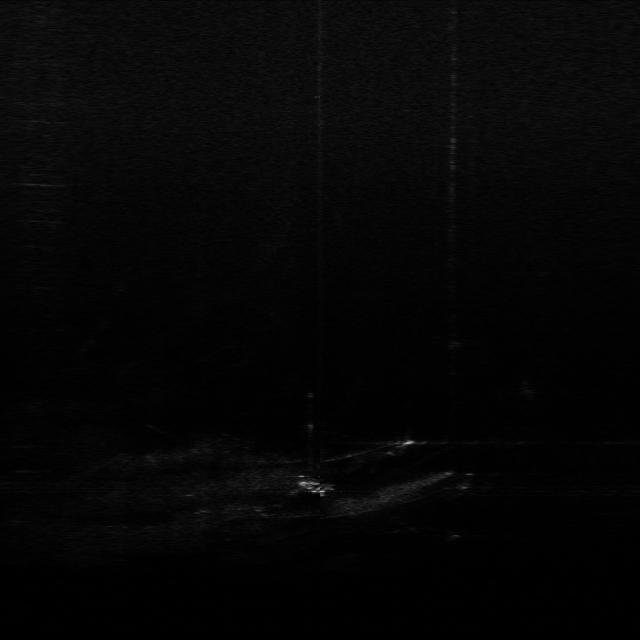rov: (292, 476, 336, 499)
